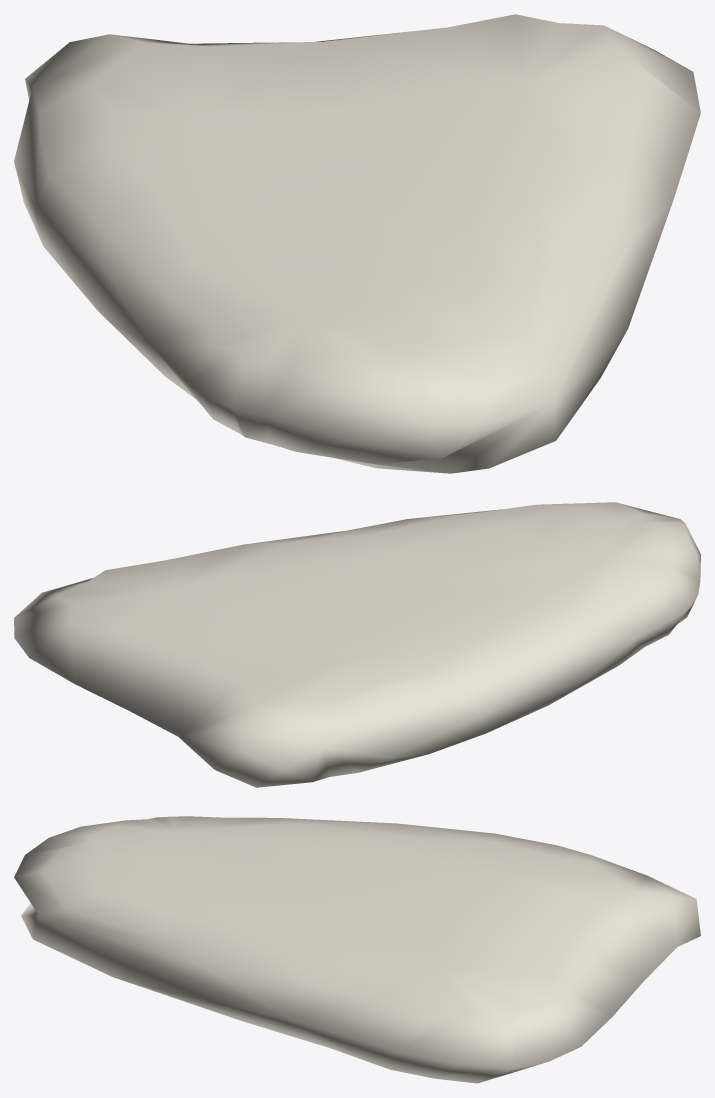
Rendered from Iceberg.004.fbx.
The picture shows the model from 3 angles, top to bottom: view 1: azimuth 30°, elevation 25°; view 2: azimuth 150°, elevation 25°; view 3: azimuth 270°, elevation 25°; orthographic projection. The views are drawn at different scales.
Parts seen in each view (by area): view 1: Iceberg.004; view 2: Iceberg.004; view 3: Iceberg.004.
Boxes of the visible parts, x1,y1,x2,y2 form: Iceberg.004: (14, 14, 700, 473); Iceberg.004: (14, 502, 700, 787); Iceberg.004: (14, 816, 700, 1083).
Bounding box in the file's own units: 7.15 × 8.77 × 1.05.
